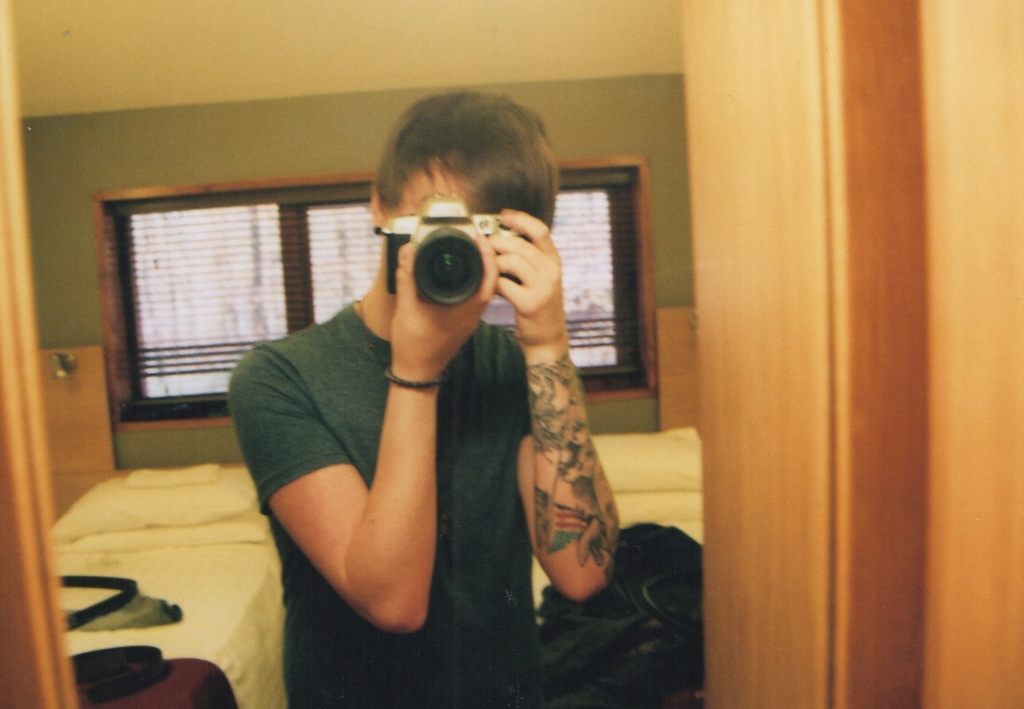Human_hand: (477, 211, 560, 331)
